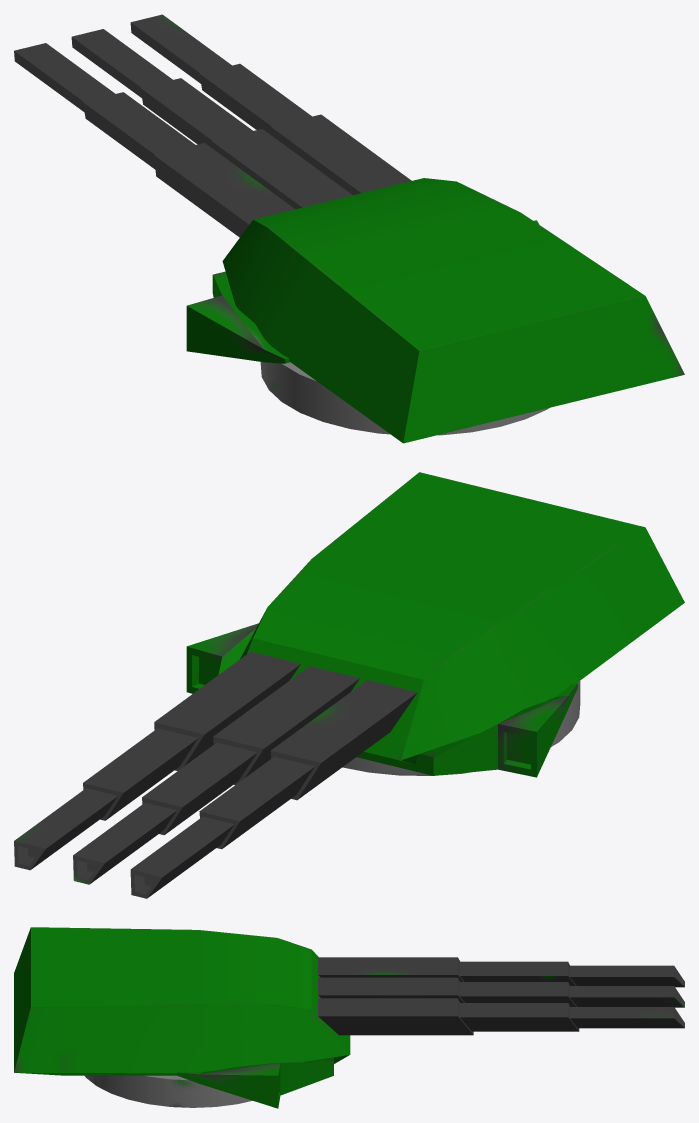
File: Alivasion_Guns_TripleGun.fbx
The picture shows the model from 3 angles, top to bottom: view 1: azimuth 30°, elevation 25°; view 2: azimuth 150°, elevation 25°; view 3: azimuth 270°, elevation 25°; orthographic projection. The views are drawn at different scales.
Visible parts, largest first — view 1: TripleGun; view 2: TripleGun; view 3: TripleGun.
Boxes of the visible parts, x1,y1,x2,y2 form: TripleGun: [14, 14, 684, 443]; TripleGun: [14, 472, 684, 898]; TripleGun: [14, 927, 684, 1108].
Size of the model in its own units: 377 by 130 by 862.
